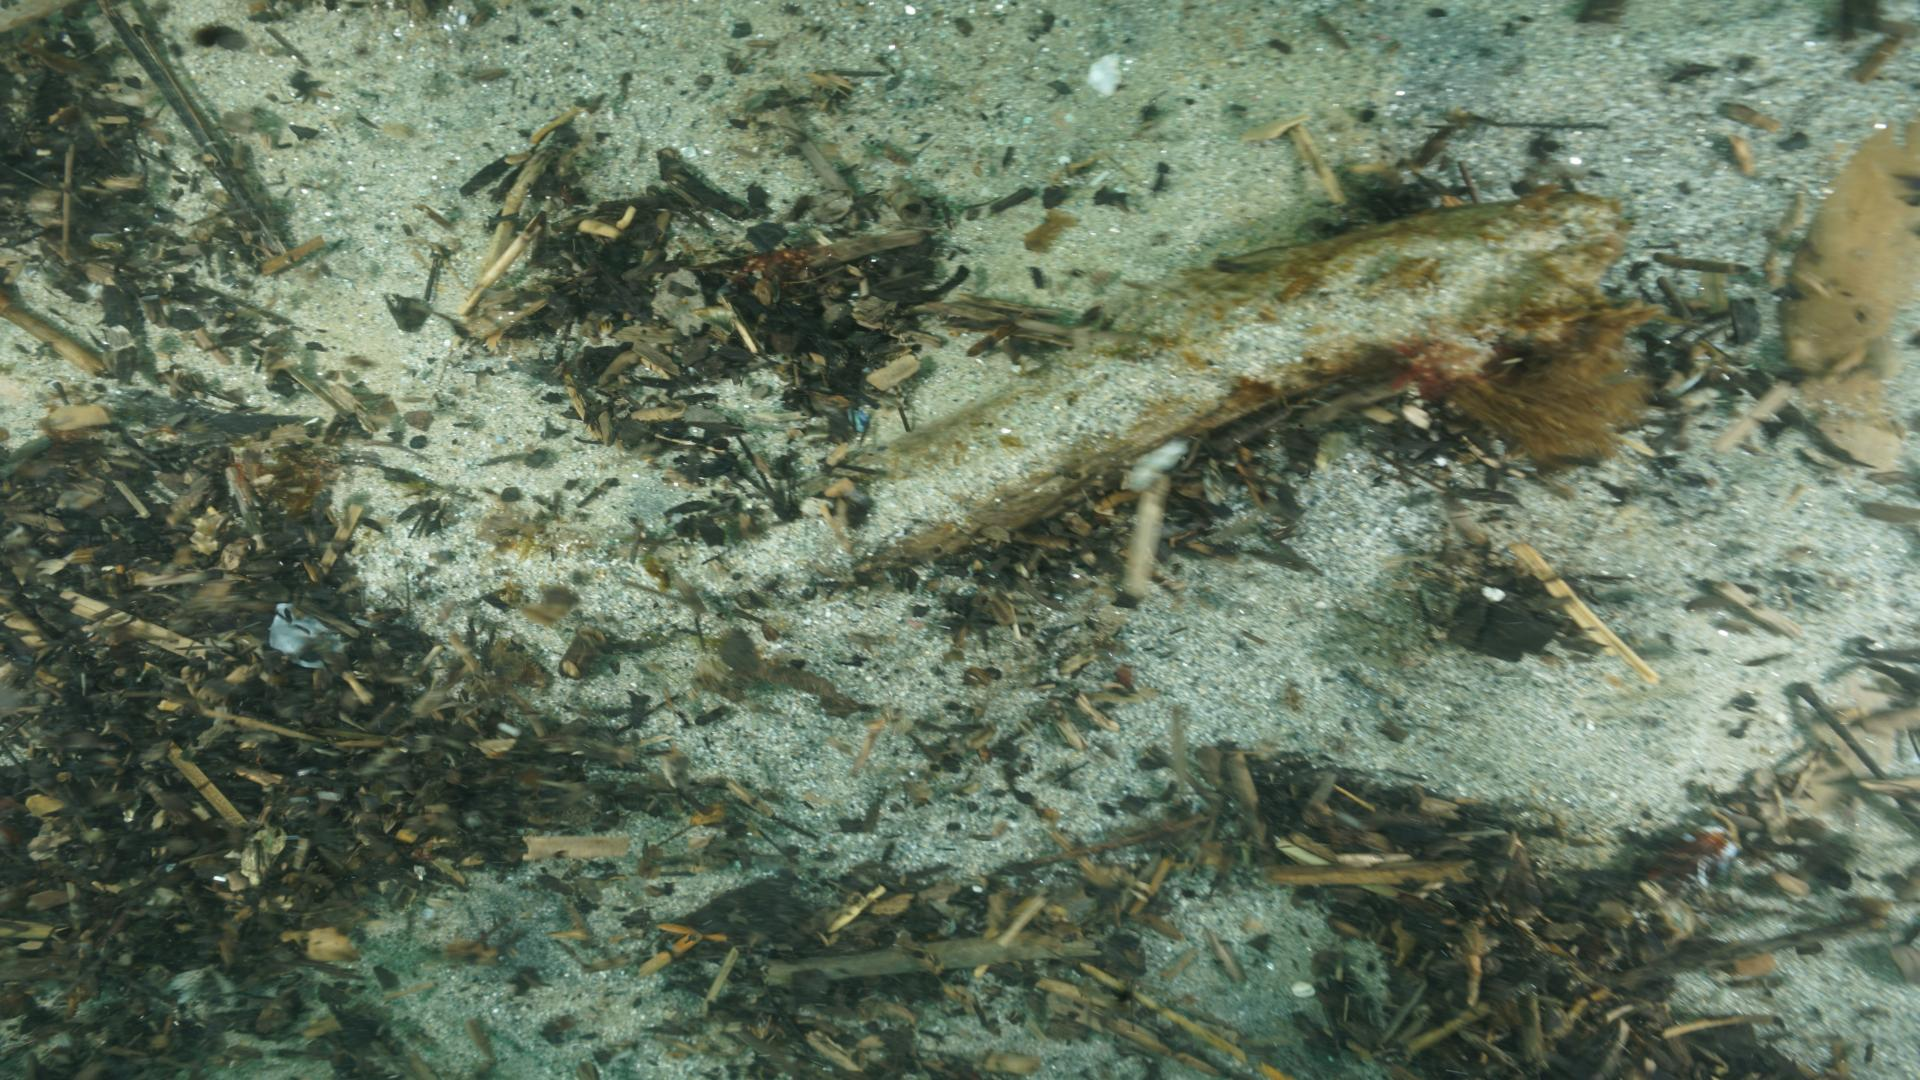wood: (833, 189, 1629, 568)
